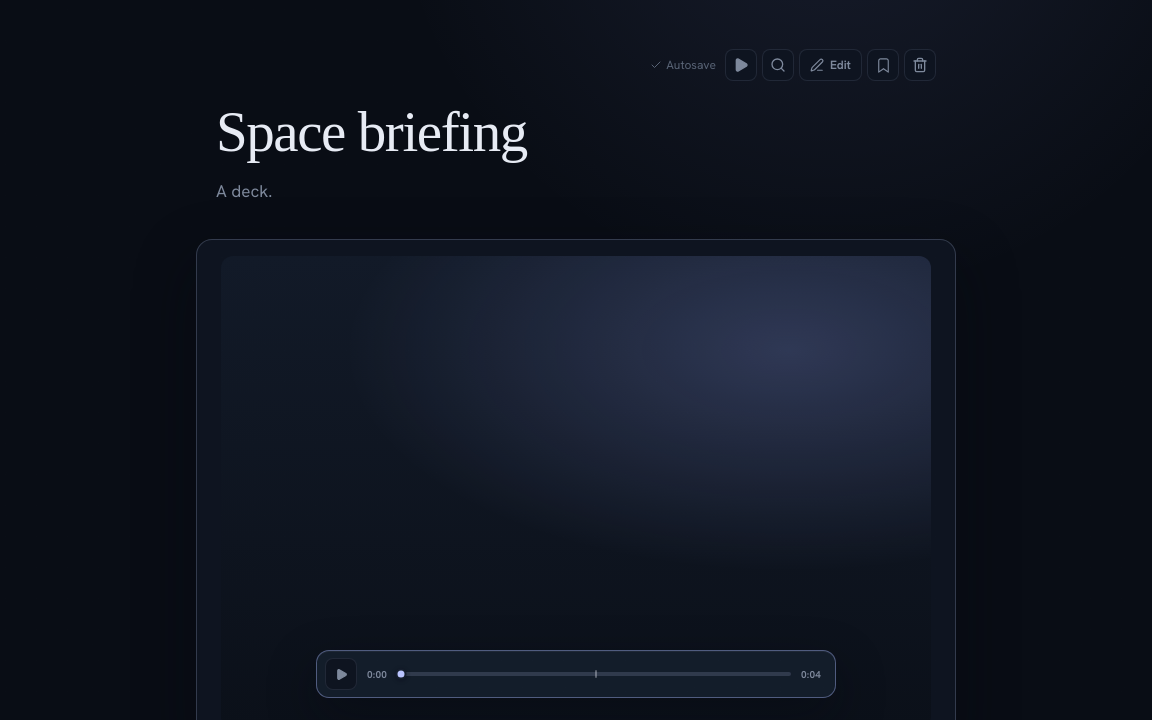
Test: NoteView › plays a deck by speaking hidden notes and advancing slides
Click the button named "Play slideshow".
click(741, 65)  # box [725, 49, 757, 81]
(page scrolled)
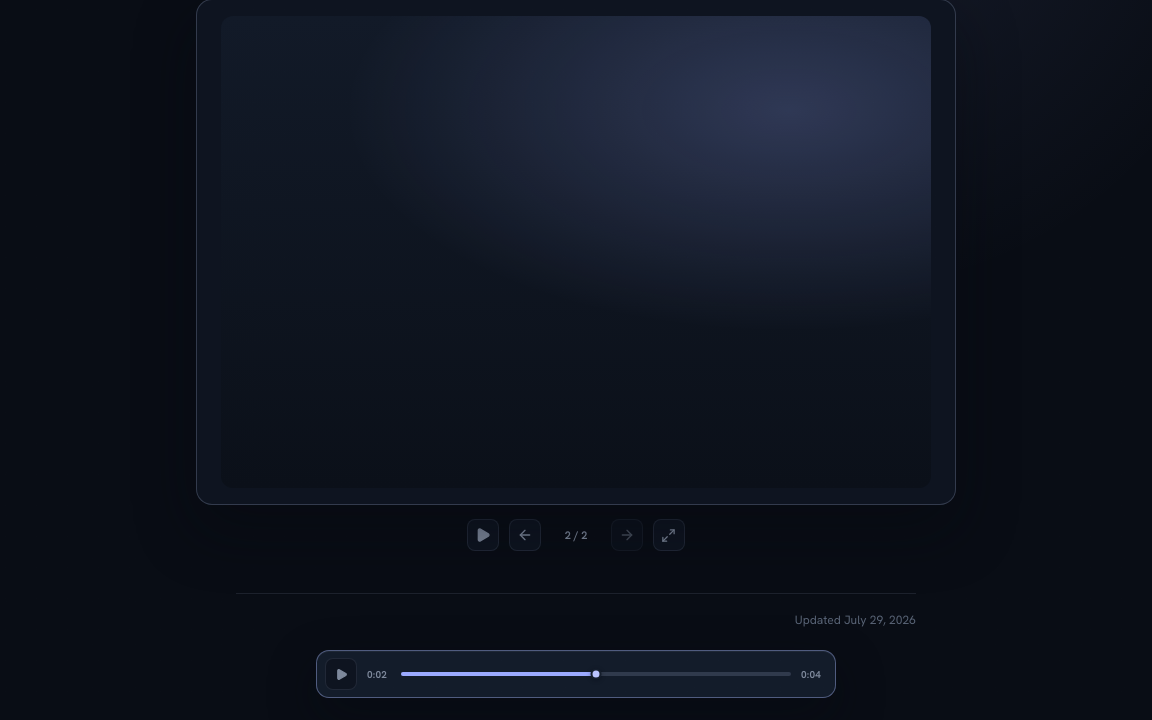
expect the element with test id "note-listen-playhead" is shown: met, box [316, 650, 836, 698]
expect the text "2 / 2" is shown: met, box [565, 528, 587, 542]
